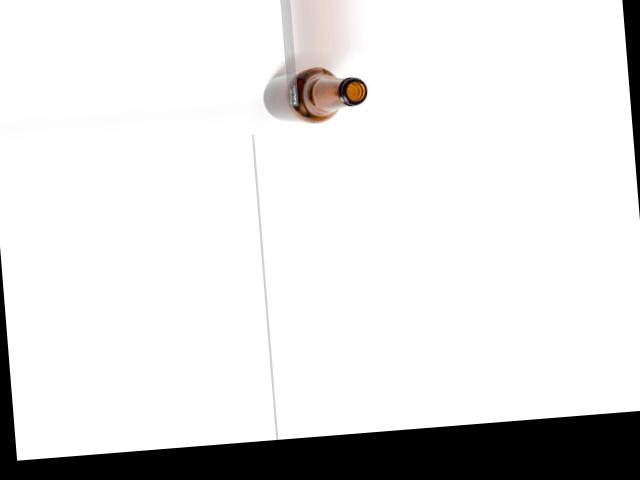beer: (260, 62, 369, 126)
